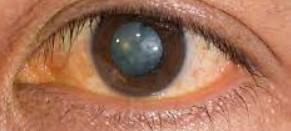eye: (93, 10, 185, 96)
